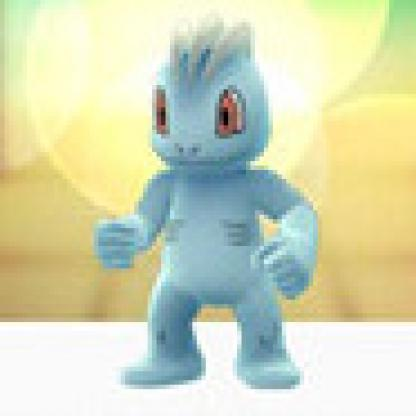Machop: (99, 10, 332, 396)
